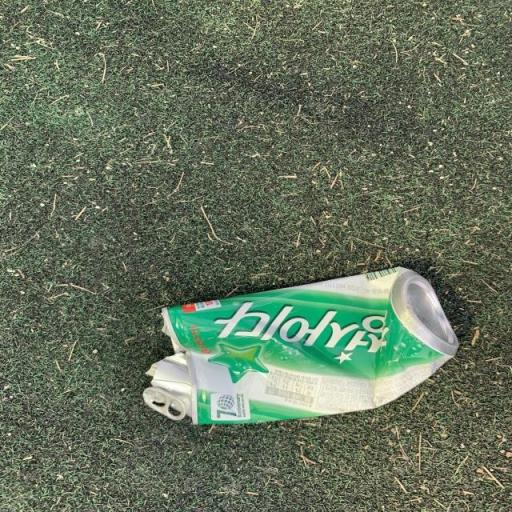metal: (114, 254, 477, 448)
